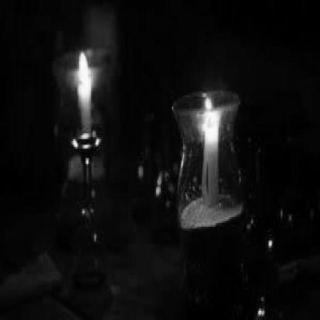Fire: (72, 42, 90, 98), (201, 98, 221, 146)
